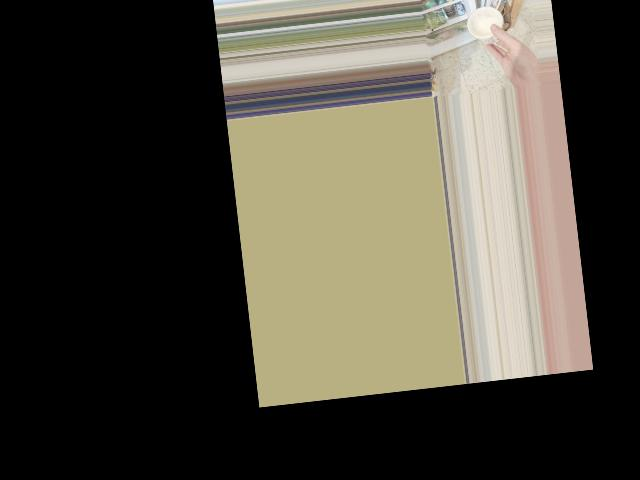cotage: (475, 7, 506, 45)
